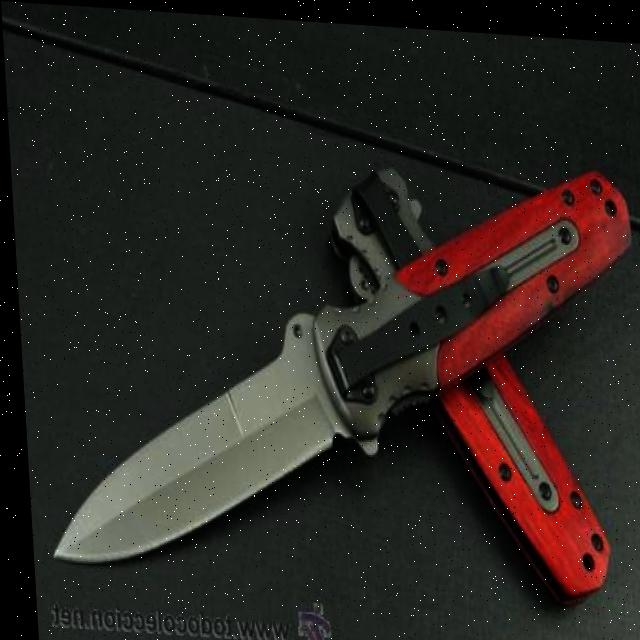knife: (21, 124, 640, 595), (325, 162, 609, 600)
